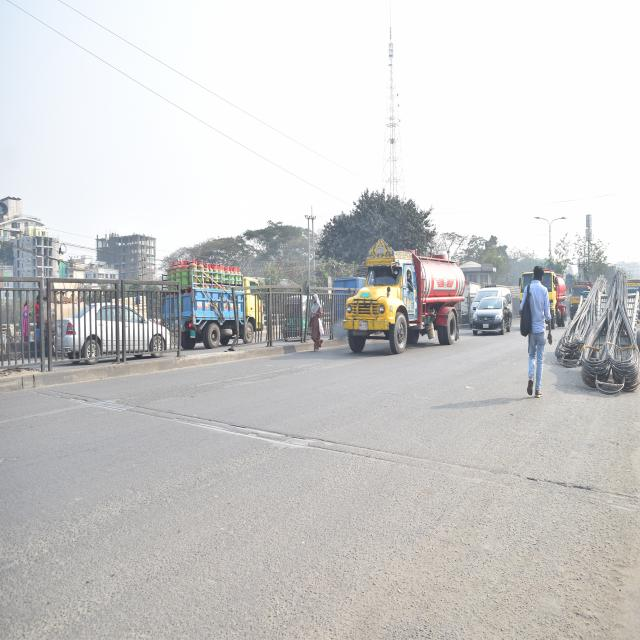car: (470, 290, 513, 340)
truck: (339, 230, 466, 363), (522, 266, 568, 327), (566, 273, 591, 319)
